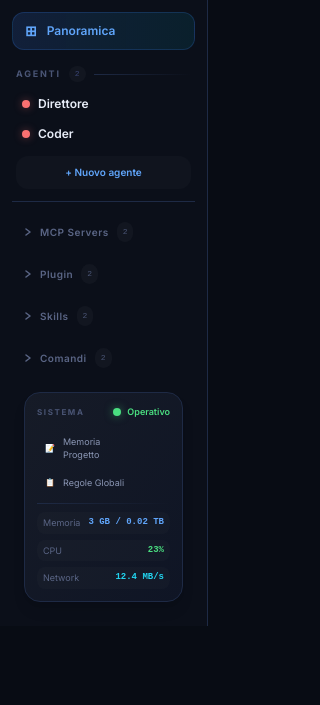
Test: Sidebar › mostra skills quando espanso
What coordinates should you click on to do the following:
click the text "Skills"
I would click on:
 (54, 316)
Its box is left=40, top=308, right=68, bottom=324.
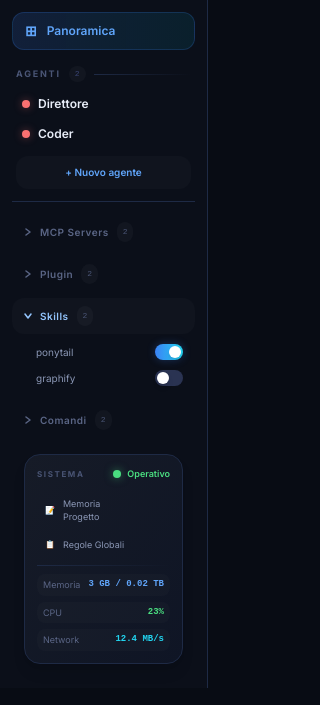
Now the text "ponytail" is shown, box left=36, top=344, right=73, bottom=360
Now the text "graphify" is shown, box left=36, top=370, right=75, bottom=386
